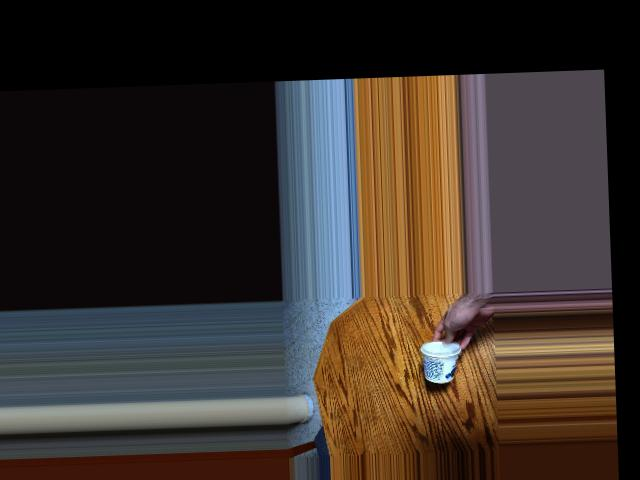cotage: (427, 336, 461, 379)
